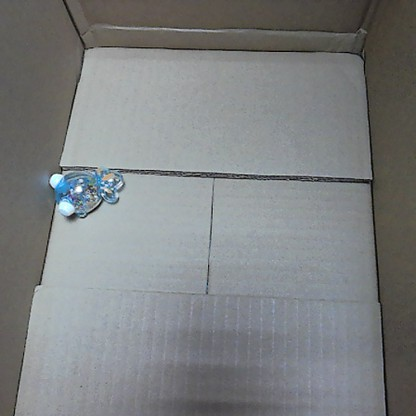bluefish: (44, 163, 126, 221)
